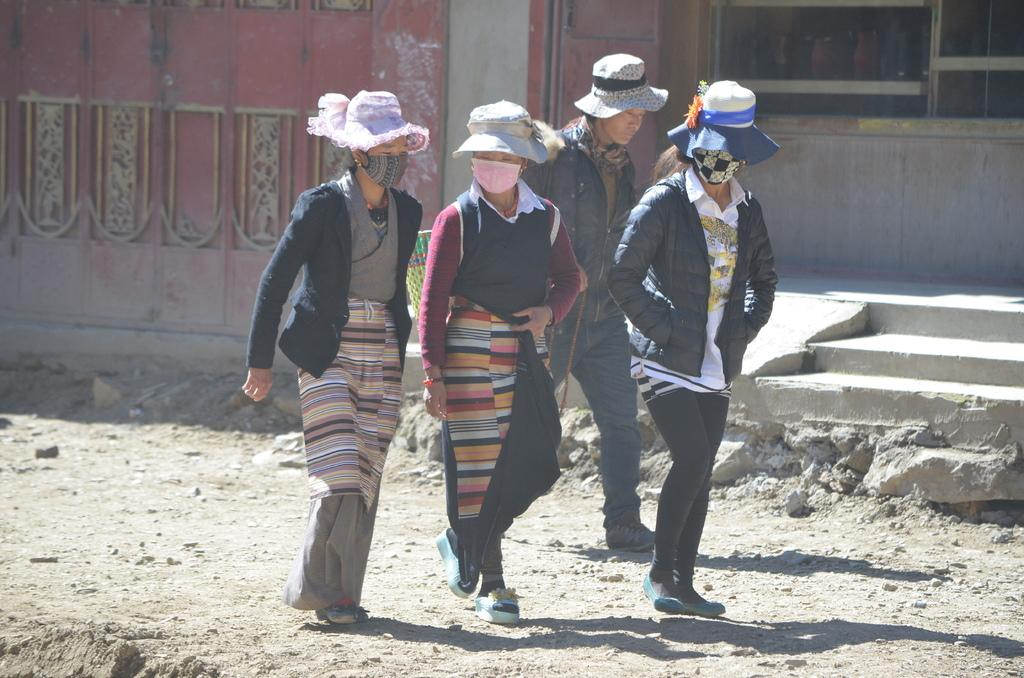Hat: (662, 80, 776, 161), (303, 91, 428, 149), (576, 50, 668, 115), (450, 105, 547, 164)
